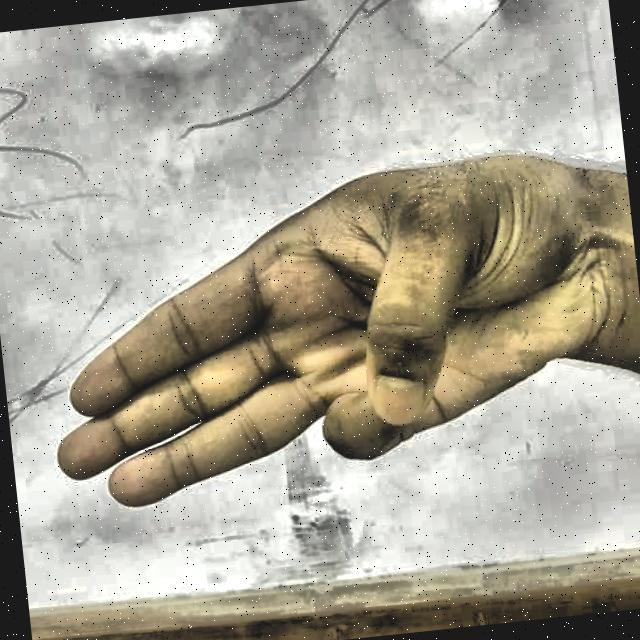Ma: (15, 120, 640, 563)
